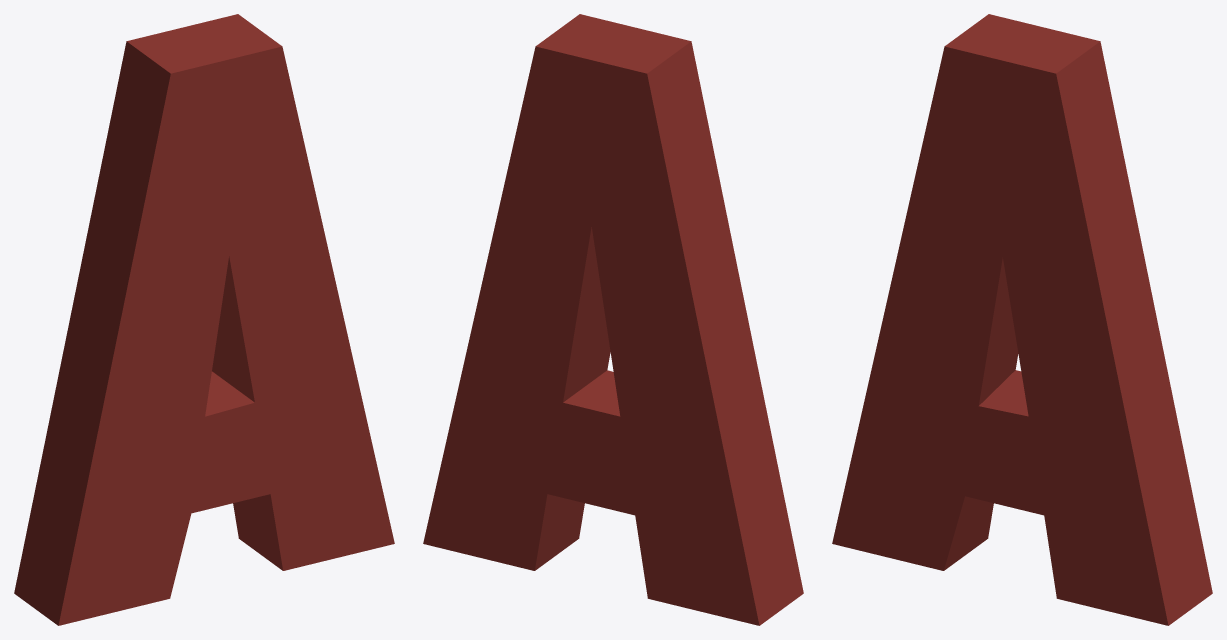
The model's file is SM_Sign_3dText_Letter_A.obj.
3 renders of one model, left to right at view 1: azimuth 30°, elevation 25°; view 2: azimuth 150°, elevation 25°; view 3: azimuth 330°, elevation 25°, orthographic.
Visible parts, largest first — view 1: SM_Sign_3dText_Letter_A_0; view 2: SM_Sign_3dText_Letter_A_0; view 3: SM_Sign_3dText_Letter_A_0.
Part boxes in pixels (<box>): SM_Sign_3dText_Letter_A_0: <box>14,14,394,625</box>; SM_Sign_3dText_Letter_A_0: <box>423,14,803,625</box>; SM_Sign_3dText_Letter_A_0: <box>832,14,1212,625</box>.
Size of the model in its own units: 0.4789 by 0.7139 by 0.1093.
1 material, 1 textured.
